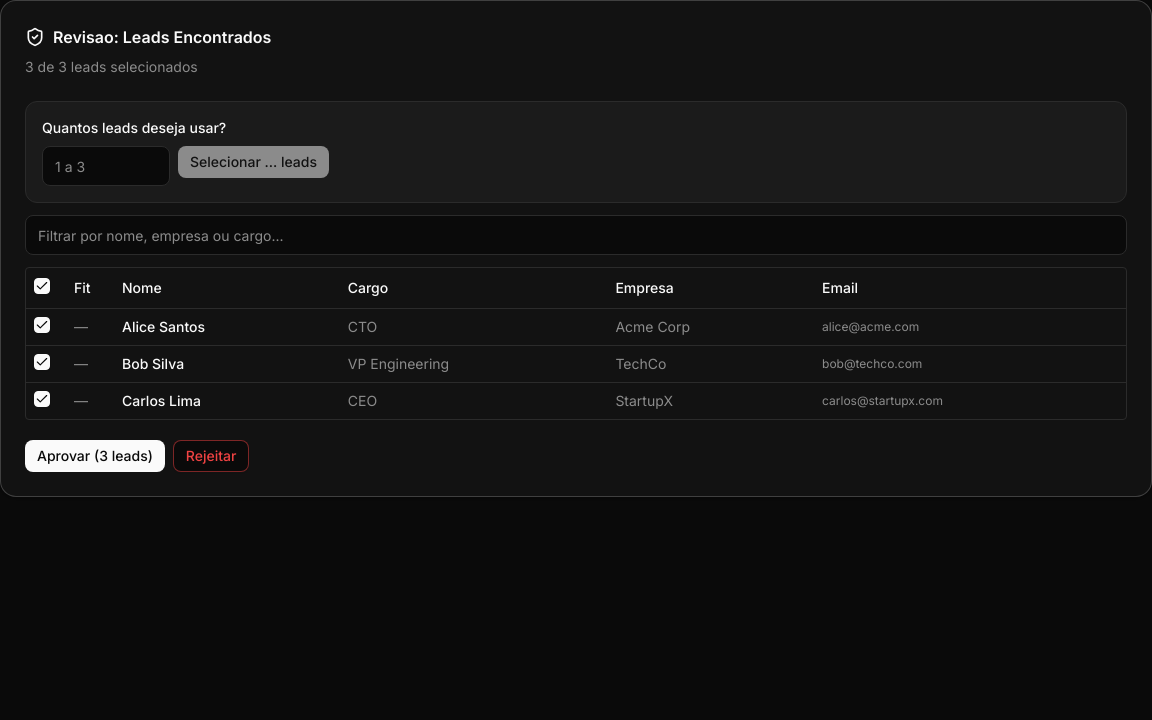
Test case: AgentLeadReview (AC: #3, #4) › toggles all leads via select all checkbox
The width and height of the screenshot is (1152, 720).
# Deselect all
Click the checkbox named "Selecionar todos" at (42, 286), box [34,278,50,294]
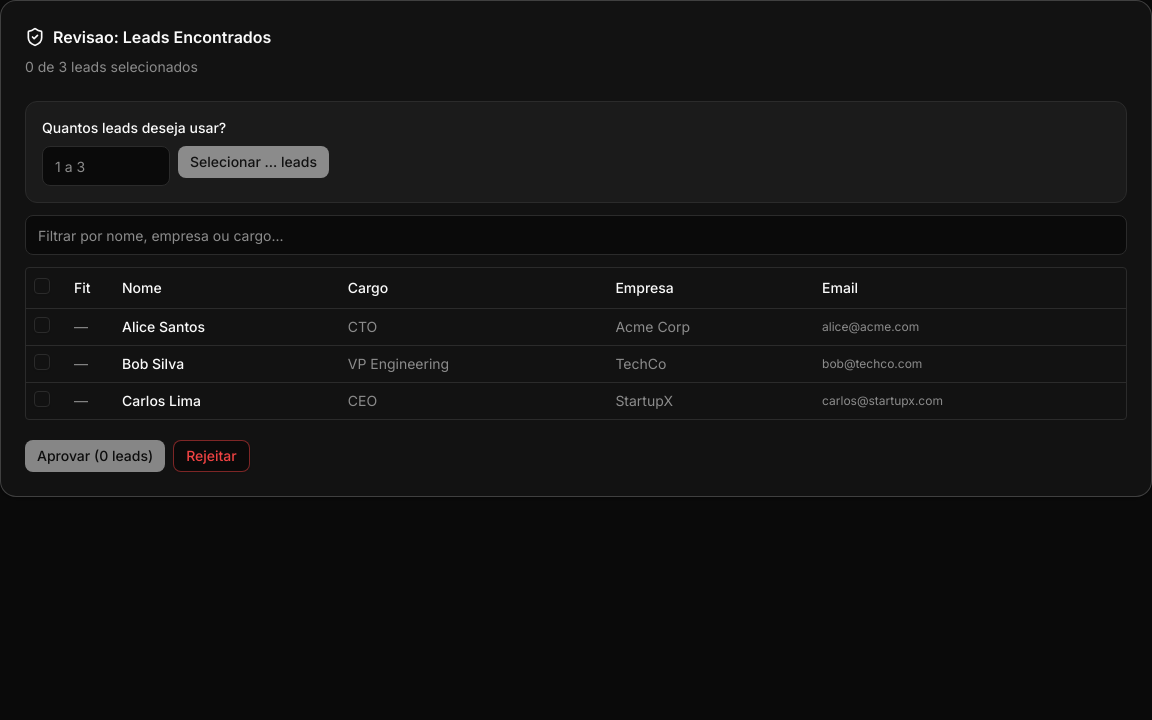
Check: the text "0 de 3 leads selecionados" is shown, box [25,58,198,75]
# Select all again
Click the checkbox named "Selecionar todos" at (42, 286), box [34,278,50,294]
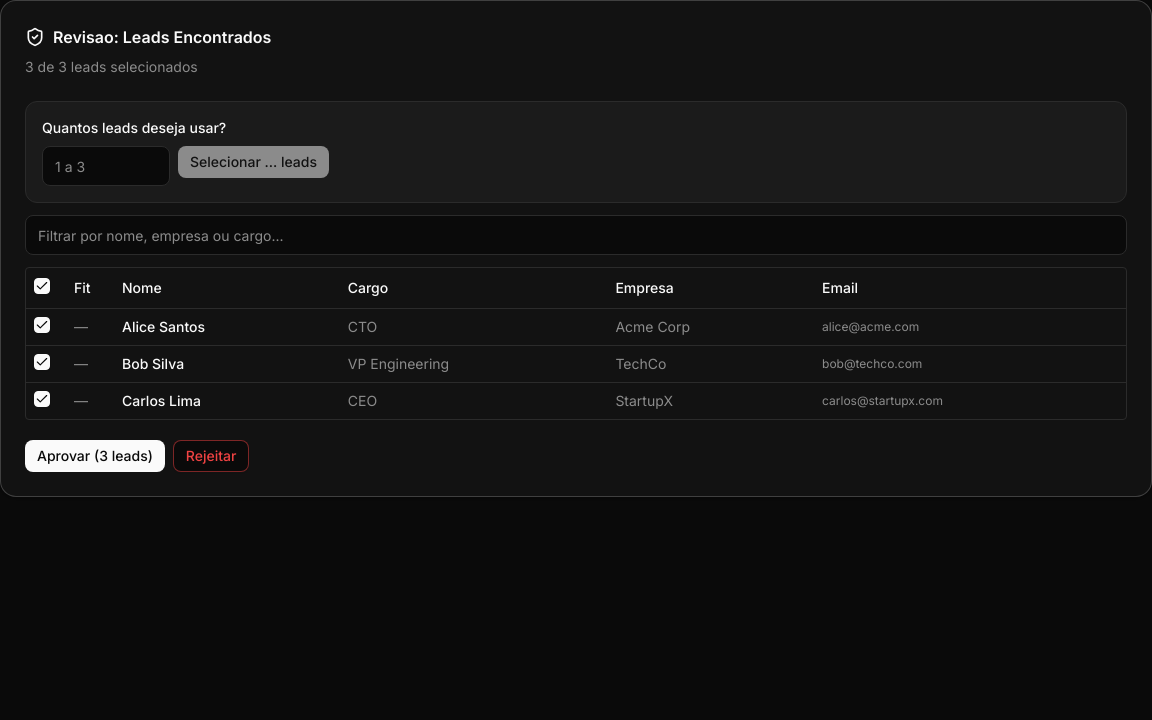
Check: the text "3 de 3 leads selecionados" is shown, box [25,58,198,75]
